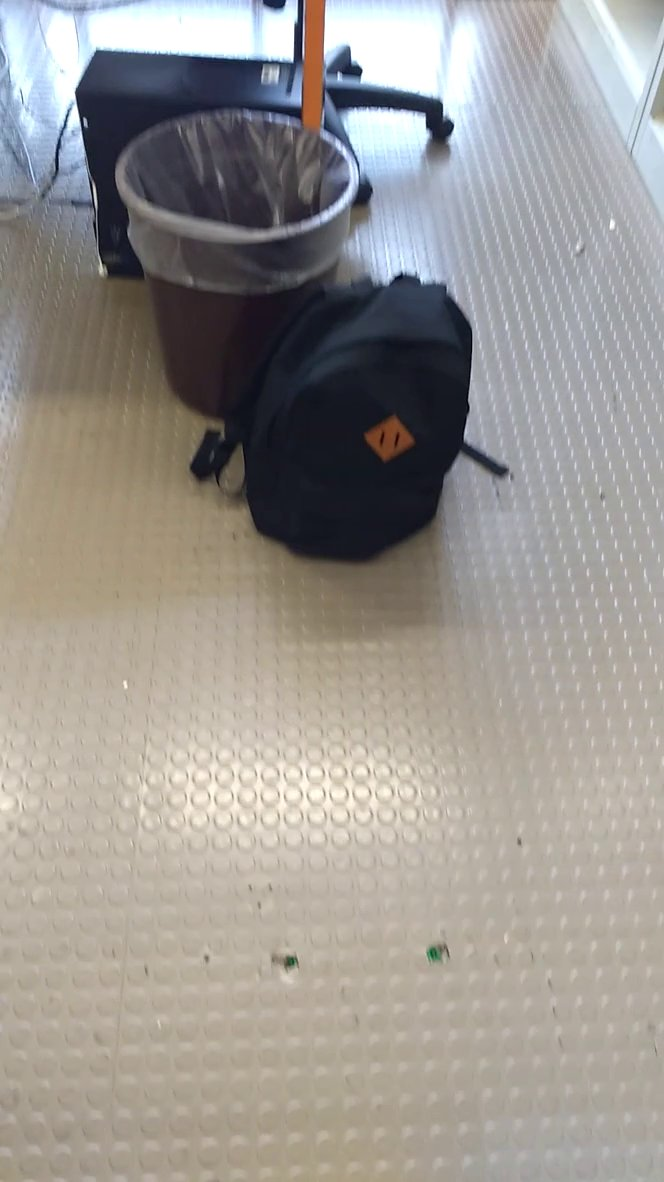bag: (182, 262, 496, 568)
bin: (103, 91, 363, 400)
